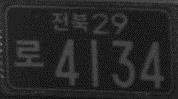1: (90, 37, 99, 87)
2: (92, 12, 111, 36)
3: (111, 39, 135, 88)
4: (55, 38, 80, 86), (139, 40, 164, 88)
9: (111, 12, 129, 37)
로: (14, 38, 44, 67)
전북_O: (51, 11, 89, 34)
